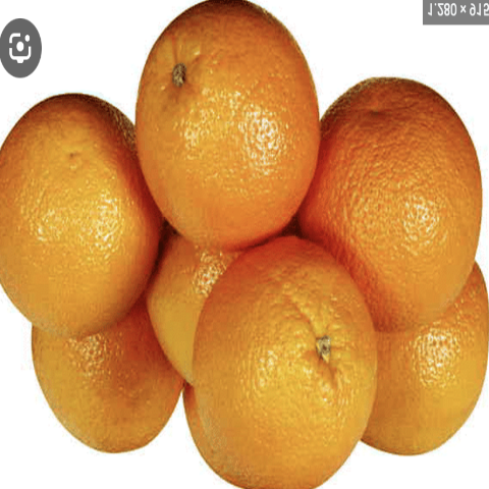orange: (288, 72, 489, 344), (122, 0, 320, 251), (186, 249, 391, 489), (0, 97, 151, 355)
